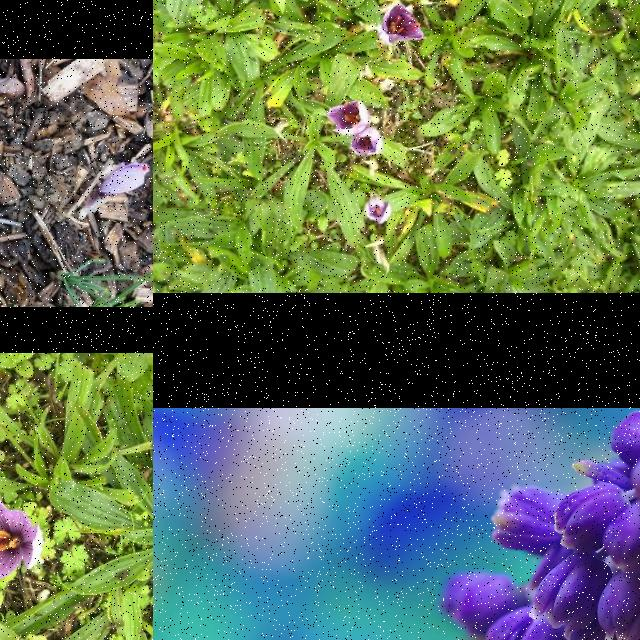flower: (0, 489, 44, 586), (378, 2, 424, 46), (100, 163, 150, 195), (327, 100, 371, 136), (351, 127, 384, 157), (366, 197, 392, 225)
